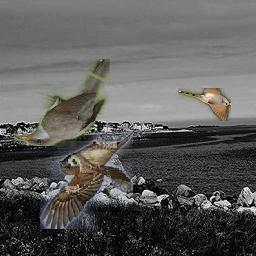Cuckoo: (14, 60, 110, 147), (179, 89, 232, 122)
Sparrow: (41, 131, 134, 229)
